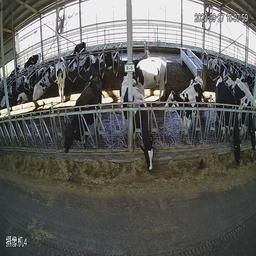cow: (118, 74, 154, 172), (63, 77, 103, 159), (214, 75, 242, 165), (225, 76, 255, 157), (165, 75, 203, 135), (126, 57, 163, 107), (85, 58, 103, 94), (33, 72, 53, 101), (97, 48, 121, 71), (55, 57, 67, 103), (69, 41, 86, 72), (17, 78, 32, 106), (23, 53, 43, 72)
